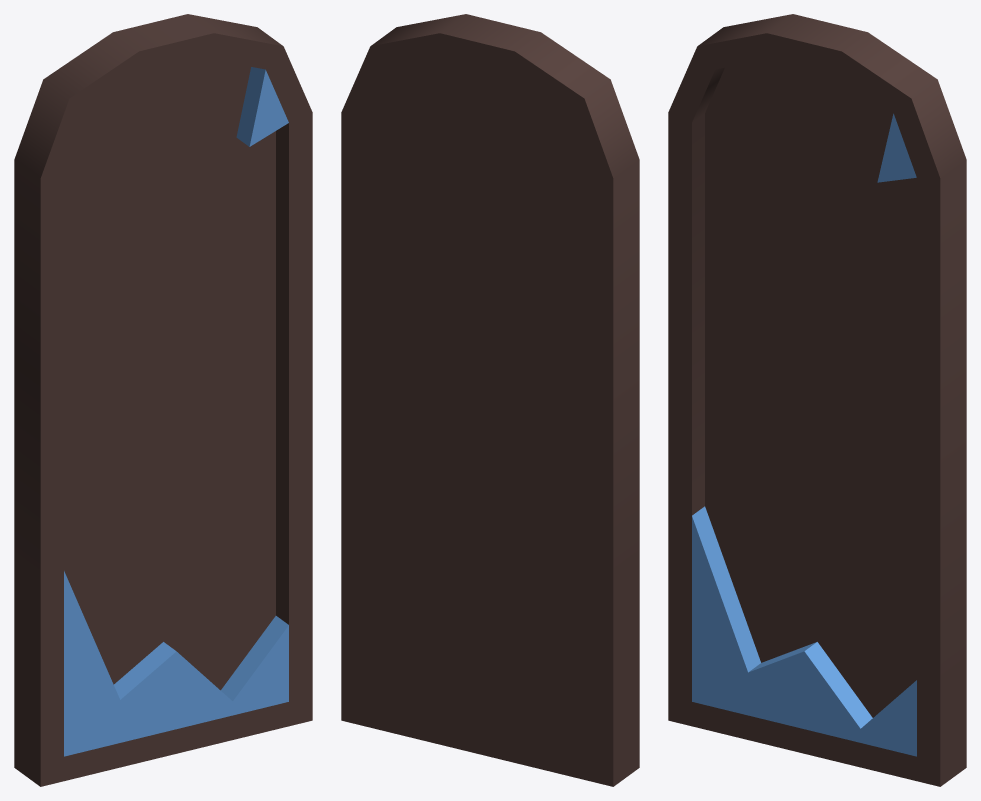
The model's file is mirror_broken.fbx.
3 renders of one model, left to right at view 1: azimuth 30°, elevation 25°; view 2: azimuth 150°, elevation 25°; view 3: azimuth 330°, elevation 25°, orthographic.
Visible parts, largest first — view 1: Mirror.Broken; view 2: Mirror.Broken; view 3: Mirror.Broken.
Part boxes in pixels (bbox=[...]): Mirror.Broken: bbox=[14, 14, 312, 786]; Mirror.Broken: bbox=[341, 14, 639, 786]; Mirror.Broken: bbox=[668, 14, 966, 786].
Bounding box in the file's own units: 120 × 300 × 20.
